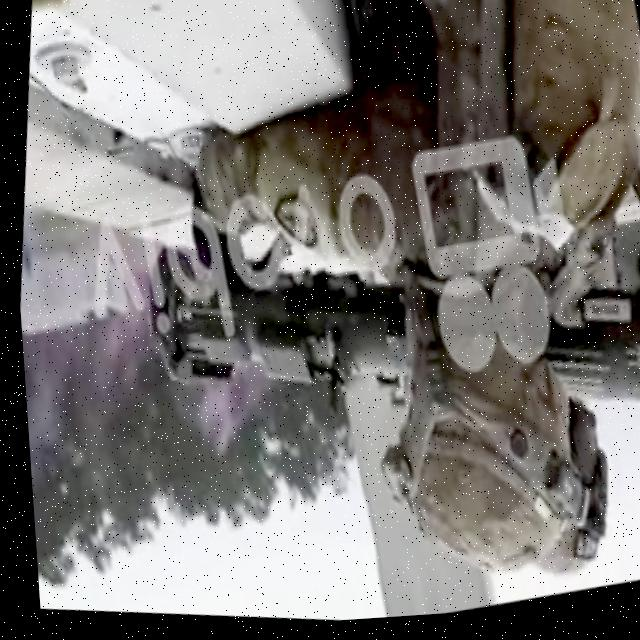rocket: (108, 119, 640, 540)
